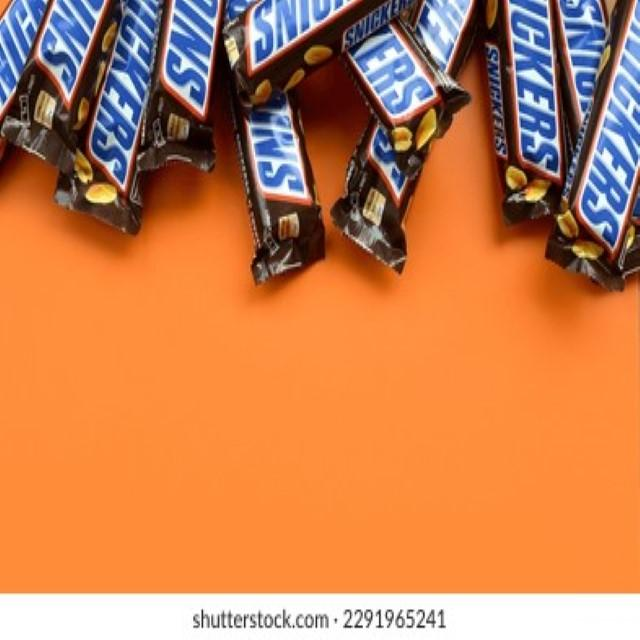snickers_chocolate: (355, 15, 482, 230), (578, 10, 637, 293), (507, 20, 570, 215), (28, 0, 80, 225), (102, 2, 140, 260), (255, 86, 303, 262), (168, 0, 208, 205), (378, 17, 410, 125)
